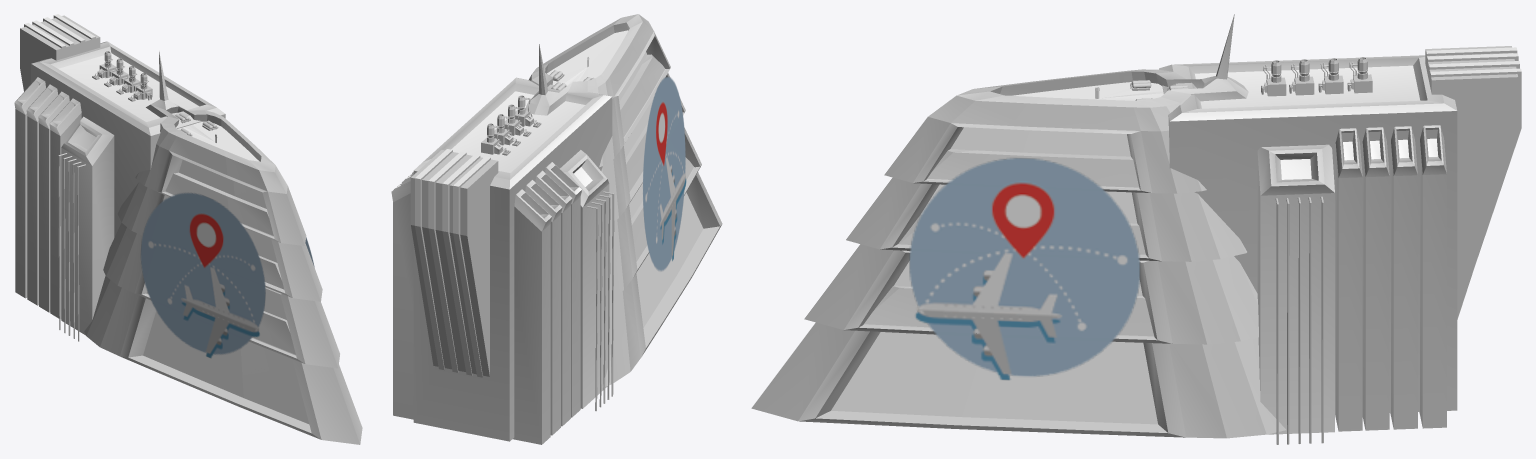
File: third building.glb
3 renders of one model, left to right at view 1: azimuth 30°, elevation 25°; view 2: azimuth 150°, elevation 25°; view 3: azimuth 270°, elevation 25°, orthographic. The views are drawn at different scales.
Parts seen in each view (by area): view 1: city buildings.windows.210, iconh1_routemap-copy.001; view 2: city buildings.windows.210, iconh1_routemap-copy.001; view 3: city buildings.windows.210, iconh1_routemap-copy.
Part boxes in pixels (<box>): city buildings.windows.210: <box>14,14,362,444</box>; iconh1_routemap-copy.001: <box>140,192,265,357</box>; city buildings.windows.210: <box>391,14,722,444</box>; iconh1_routemap-copy.001: <box>643,76,686,271</box>; city buildings.windows.210: <box>751,14,1521,444</box>; iconh1_routemap-copy: <box>909,158,1139,380</box>.
Size of the model in its own units: 2.86 by 5.22 by 9.44.
4 materials, 2 textured.
